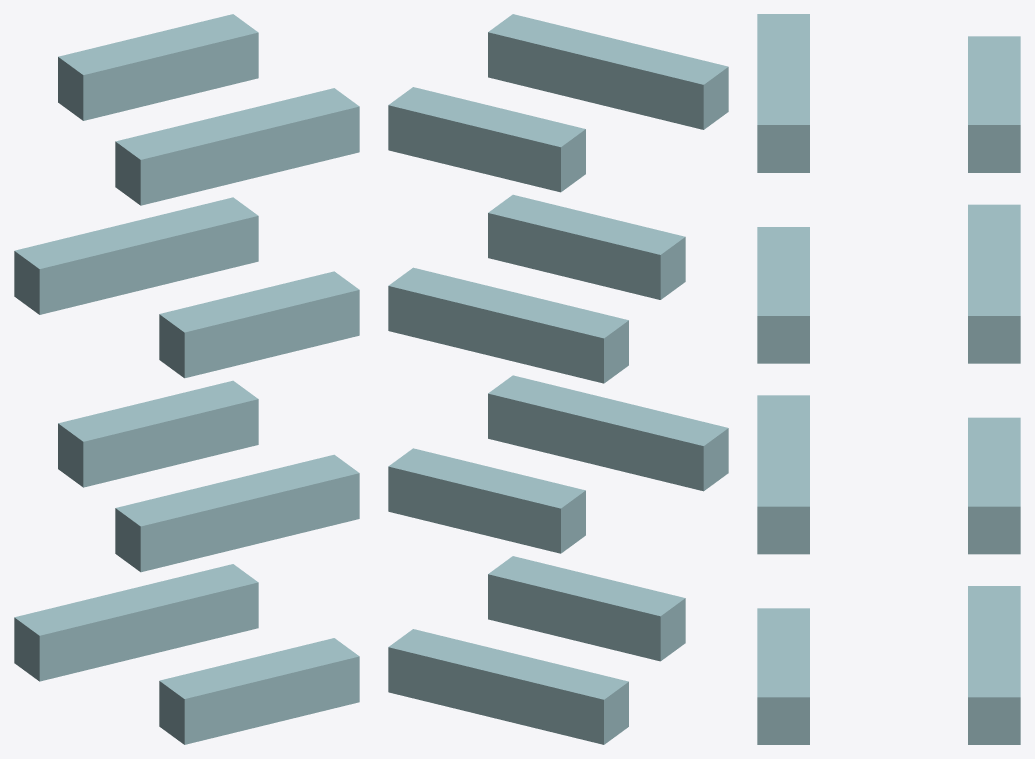
Rendered from fbBrickWallTrap_Spikes.fbx.
3 views of the same model, side by side, from view 1: azimuth 30°, elevation 25°; view 2: azimuth 150°, elevation 25°; view 3: azimuth 270°, elevation 25° (orthographic). The views are drawn at different scales.
Parts seen in each view (by area): view 1: fbBrick_01_J3; view 2: fbBrick_01_J3; view 3: fbBrick_01_J3.
Part boxes in pixels (bbox=[...]): fbBrick_01_J3: bbox=[14, 14, 359, 744]; fbBrick_01_J3: bbox=[388, 14, 728, 744]; fbBrick_01_J3: bbox=[757, 14, 1020, 744].
Bounding box in the file's own units: 5 × 13 × 5.
